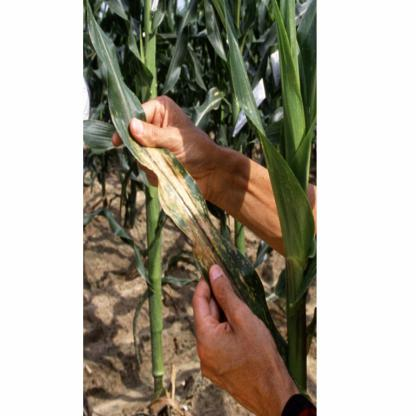corn leaf blight: (90, 12, 250, 308)
